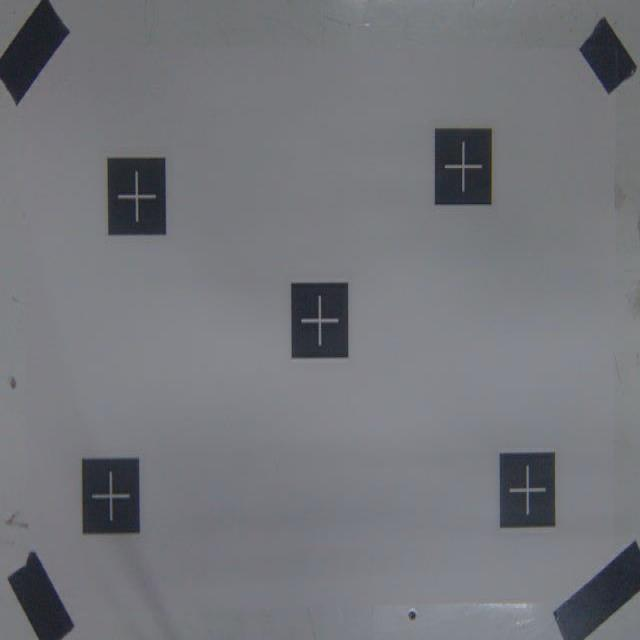dot: (108, 156, 167, 234), (435, 127, 492, 205), (83, 456, 139, 534), (499, 452, 557, 527), (291, 282, 348, 358)
